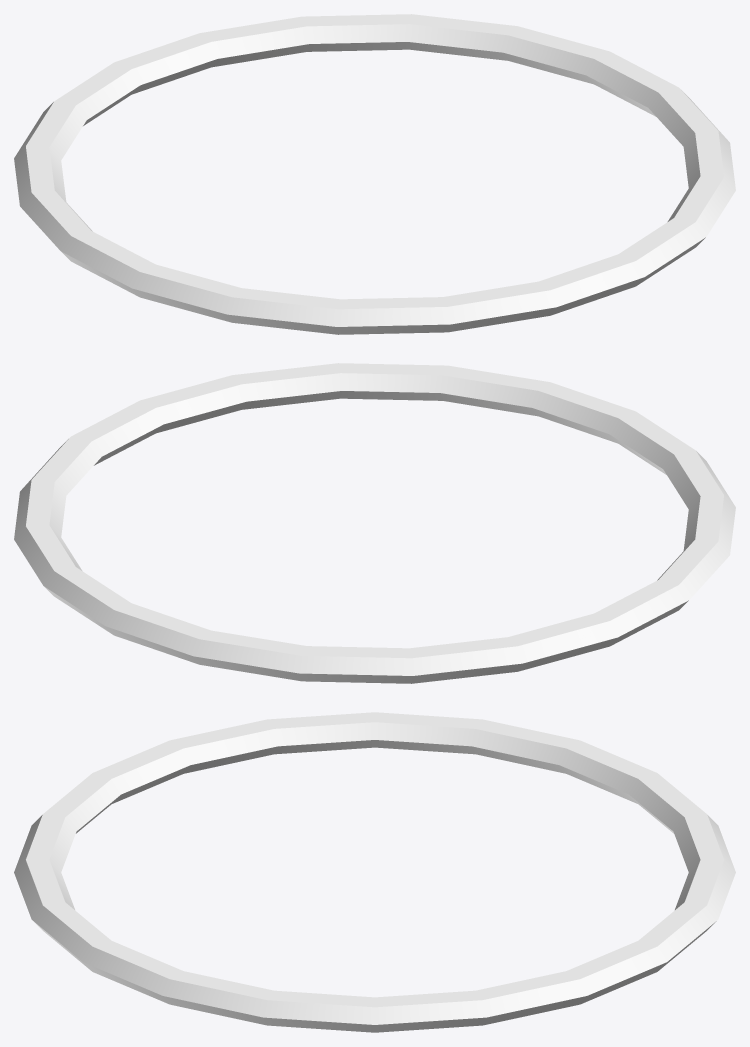
Rendered from Halo.fbx.
3 renders of one model, top to bottom at view 1: azimuth 30°, elevation 25°; view 2: azimuth 150°, elevation 25°; view 3: azimuth 270°, elevation 25°, orthographic.
Parts seen in each view (by area): view 1: pTorus1; view 2: pTorus1; view 3: pTorus1.
Boxes of the visible parts, x1,y1,x2,y2 form: pTorus1: [14, 14, 735, 334]; pTorus1: [14, 363, 735, 683]; pTorus1: [14, 712, 735, 1032].
Bounding box in the file's own units: 96.24 × 3.74 × 96.24.
